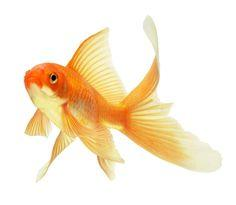goldfish: (19, 58, 129, 142)
